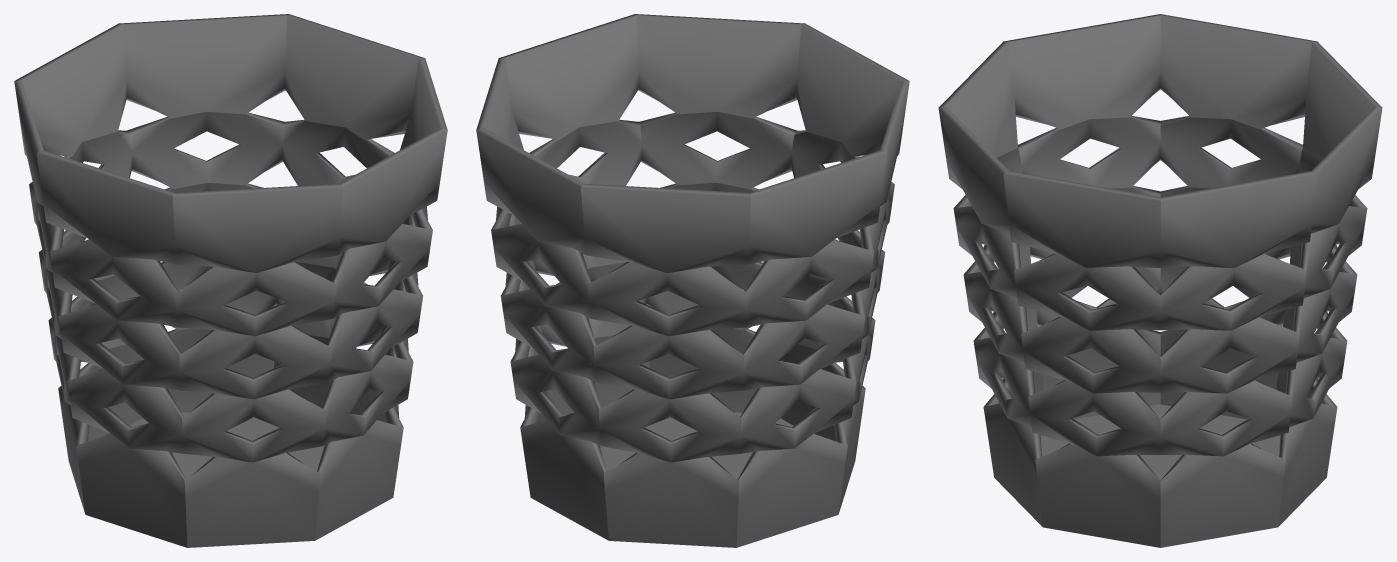
Rendered from Bote de Basura.fbx.
The picture shows the model from 3 angles, left to right: view 1: azimuth 30°, elevation 25°; view 2: azimuth 150°, elevation 25°; view 3: azimuth 270°, elevation 25°; orthographic projection.
Visible parts, largest first — view 1: BoteBasura; view 2: BoteBasura; view 3: BoteBasura.
Boxes of the visible parts, bbox=[...] form: BoteBasura: bbox=[14, 14, 447, 547]; BoteBasura: bbox=[476, 14, 909, 547]; BoteBasura: bbox=[938, 14, 1382, 547].
Size of the model in its own units: 59.35 by 54.68 by 59.35.
